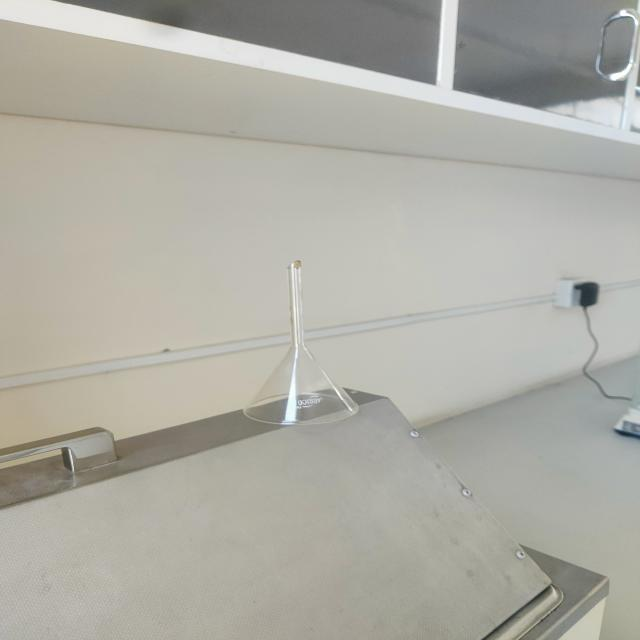Funnel: (182, 213, 394, 471)
